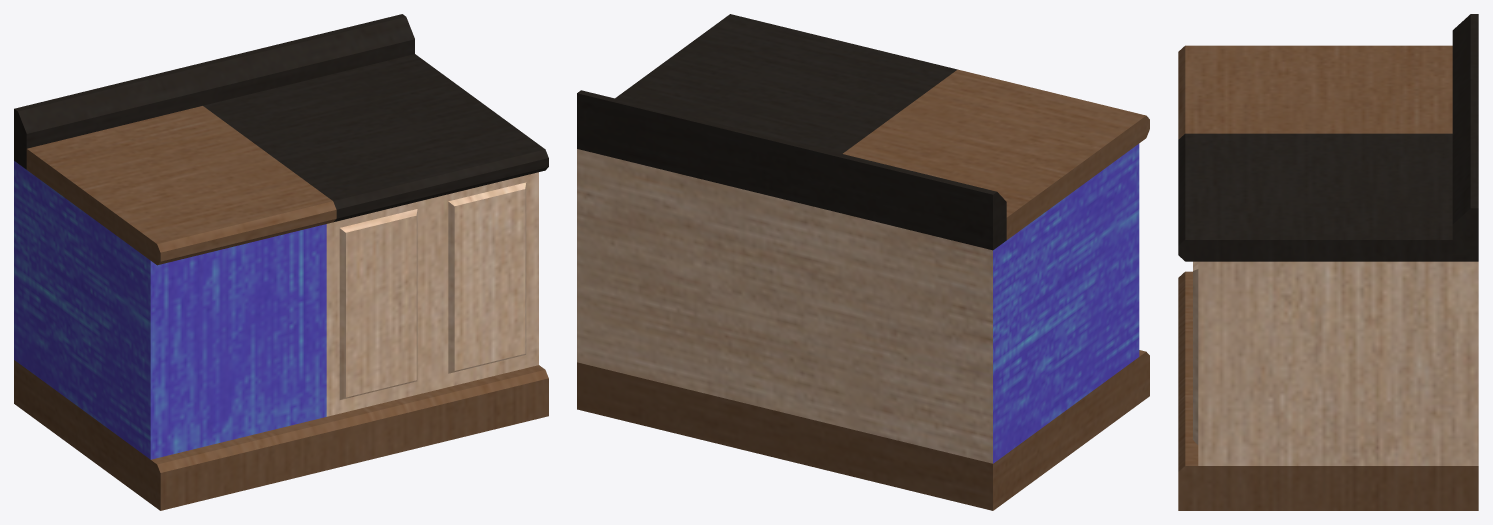
Rendered from oven.FBX.
3 renders of one model, left to right at view 1: azimuth 30°, elevation 25°; view 2: azimuth 150°, elevation 25°; view 3: azimuth 270°, elevation 25°, orthographic. The views are drawn at different scales.
Visible parts, largest first — view 1: oven; view 2: oven; view 3: oven.
Part boxes in pixels (x1=…): oven: x1=14, y1=14, x2=548, y2=510; oven: x1=577, y1=14, x2=1149, y2=510; oven: x1=1178, y1=14, x2=1478, y2=510.
Size of the model in its own units: 118 by 85.53 by 76.9.
